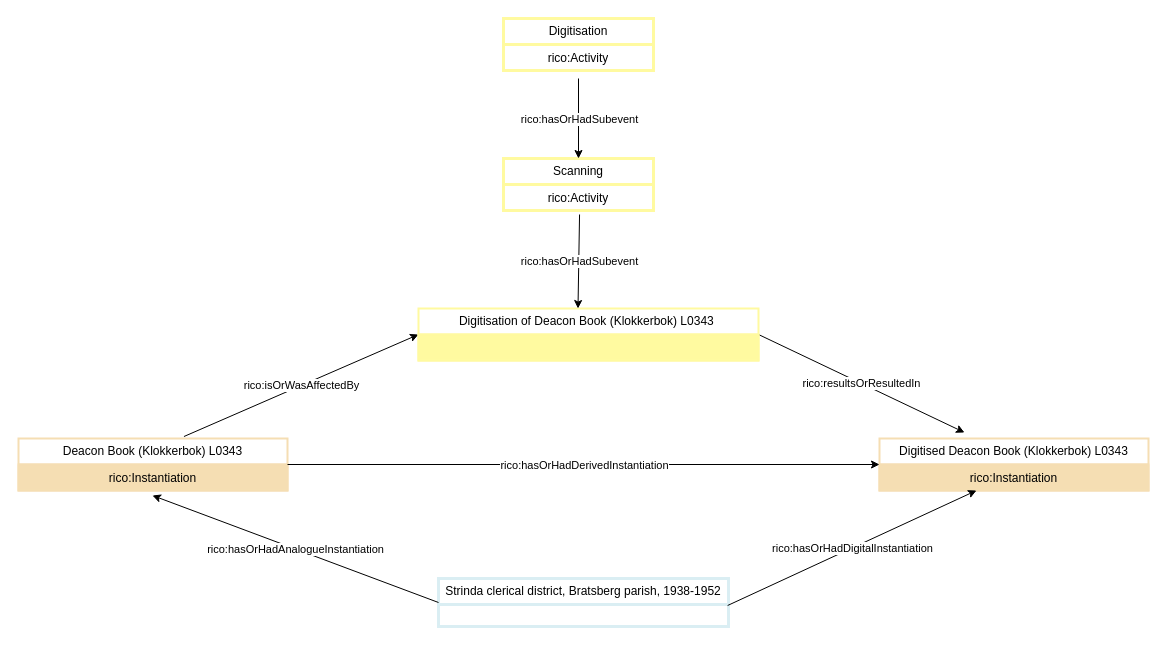
The diagram is 1166 pixels wide and 647 high, and some of its shapes have lost their labels. The shapes that lost their labels are listed below. From the top down, each one's centre as x and y in pixels, then its label:
the point at 588,347: rico:Event
the point at 583,615: rico:Record
